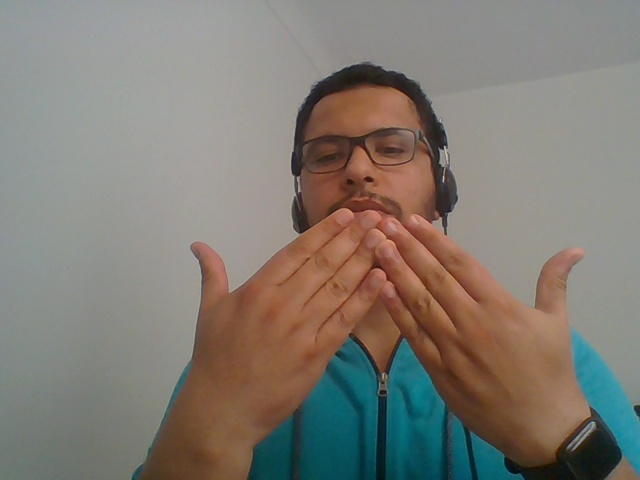thanks: (154, 201, 626, 480)
